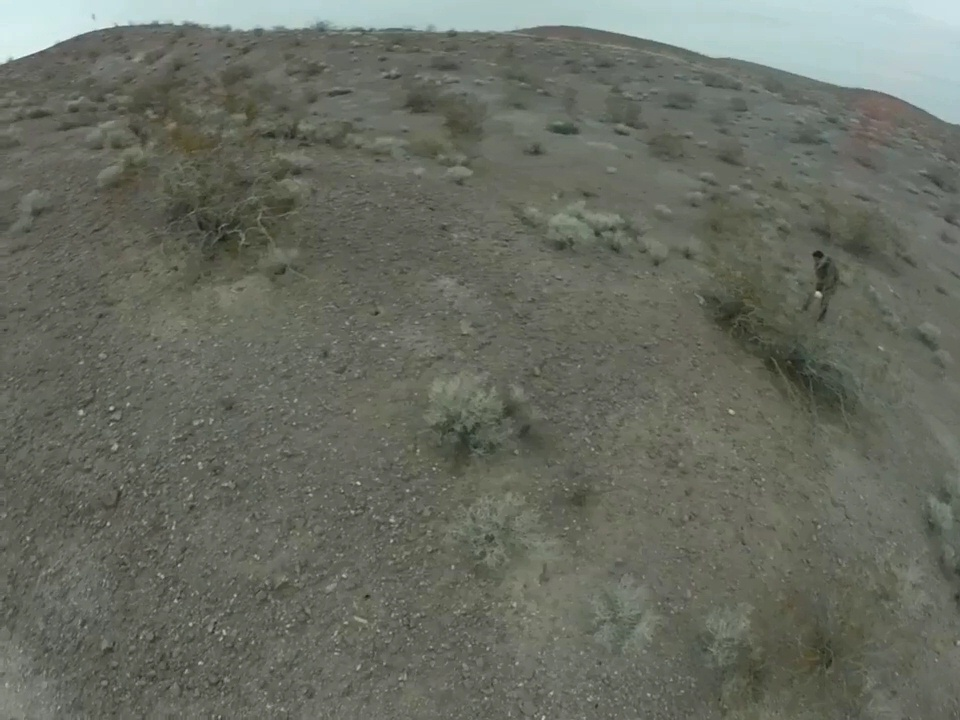insan: (802, 249, 839, 324)
